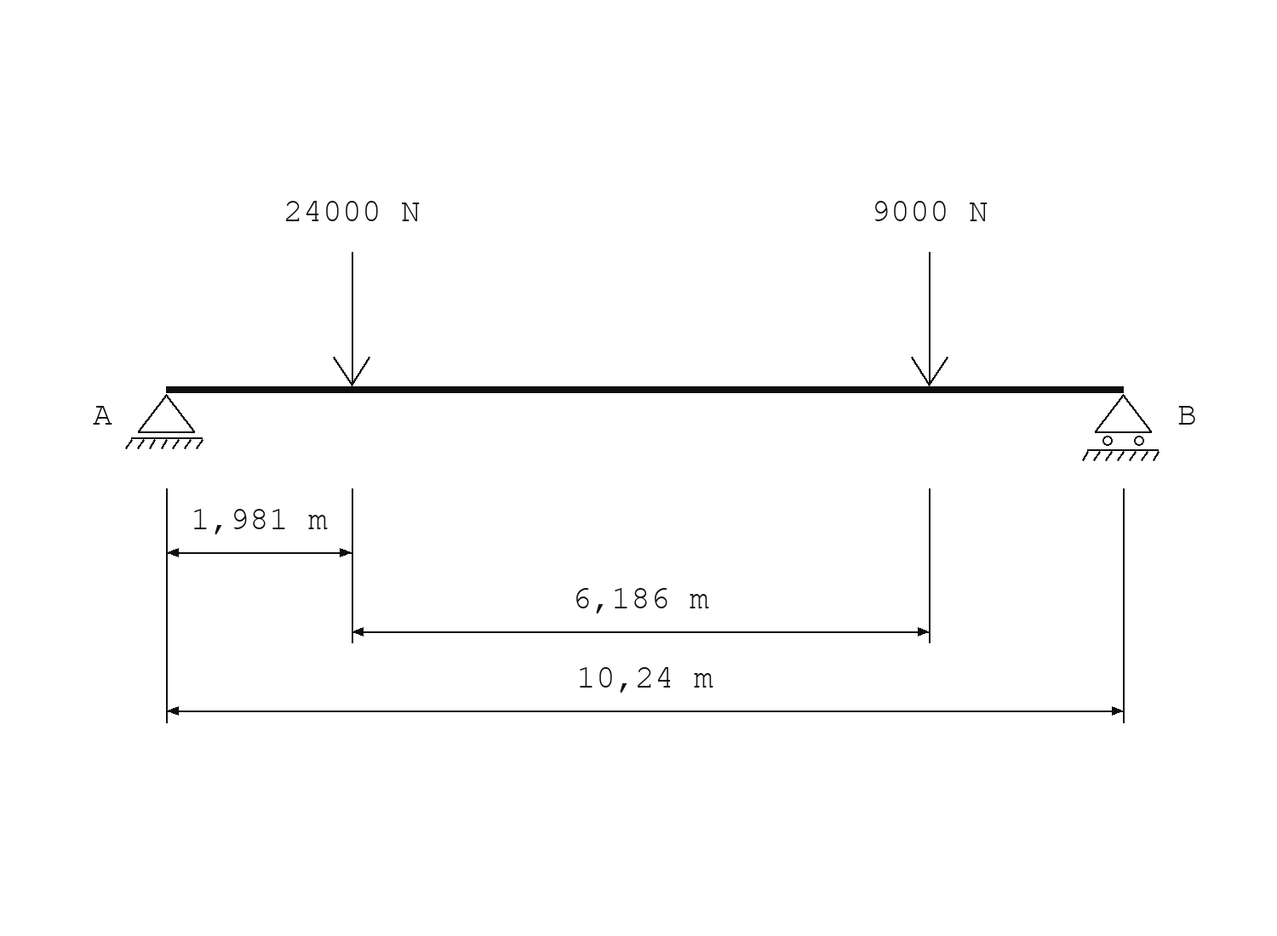pin_support: (125, 394, 203, 449)
point_load: (333, 252, 370, 386), (911, 252, 948, 386)
roller_support: (1082, 394, 1160, 461)
